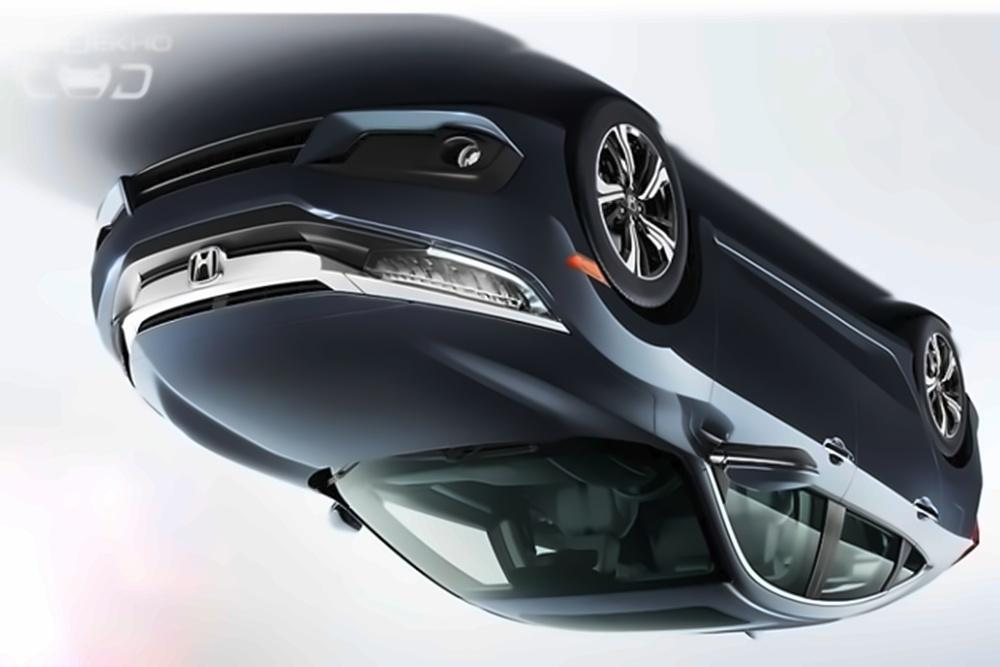Car hood: (111, 290, 672, 488)
Driver-s door - -F-R-: (681, 190, 864, 629)
Fender - -F-R-: (536, 138, 713, 447)
Front bumper: (73, 98, 590, 332)
Headlight - -R-: (349, 238, 562, 330)
Passenger-s door - -R-R-: (797, 229, 956, 634)
Side bumper - -R-: (683, 202, 926, 390)
Side mirror - -R-: (692, 439, 817, 497)
